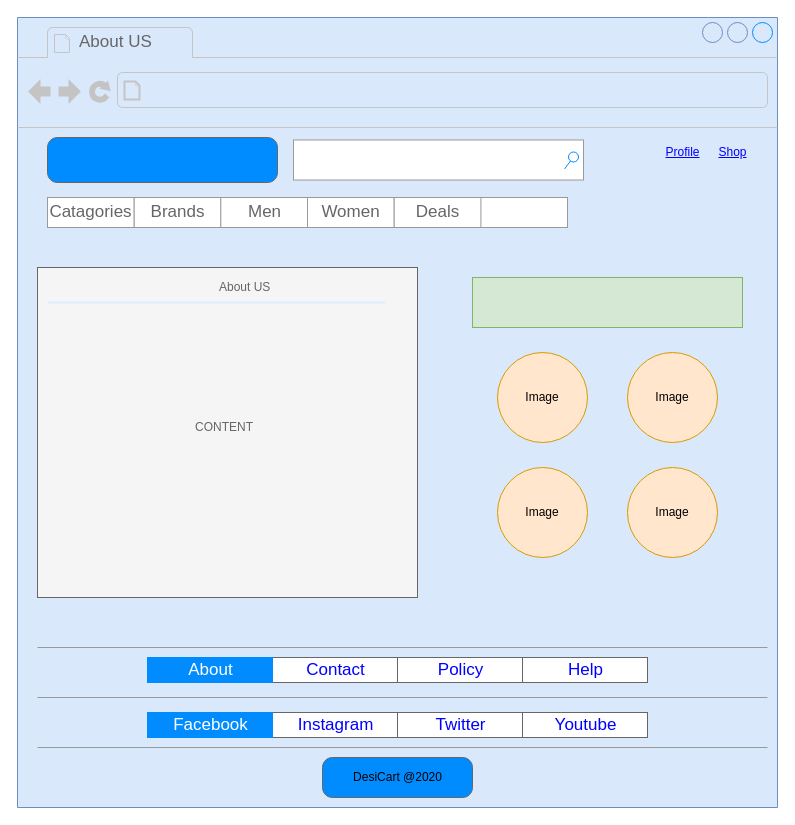
The diagram is 795 pixels wide and 825 high, and some of its shapes have lost their labels. The centre of each missing label's shape, as x and y in pixels:
DesiCart Logo: pixel 162 159
https://desicart.000webhostapp.com/about.html: pixel 272 90
OUR TEM: pixel 607 302
Search: pixel 438 159
